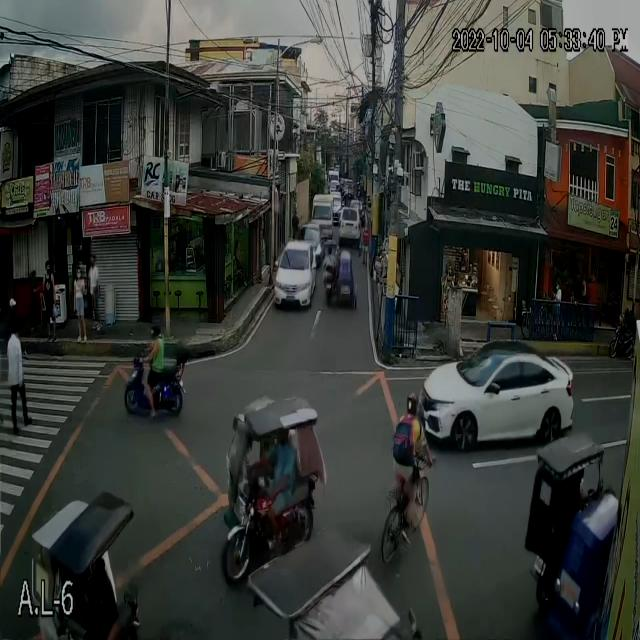Full-Faced: (148, 318, 164, 340)
